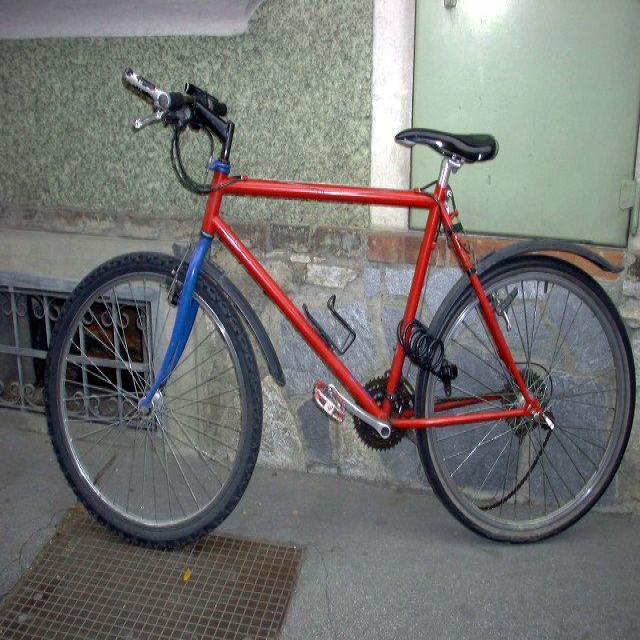bicycle: (43, 65, 635, 548)
